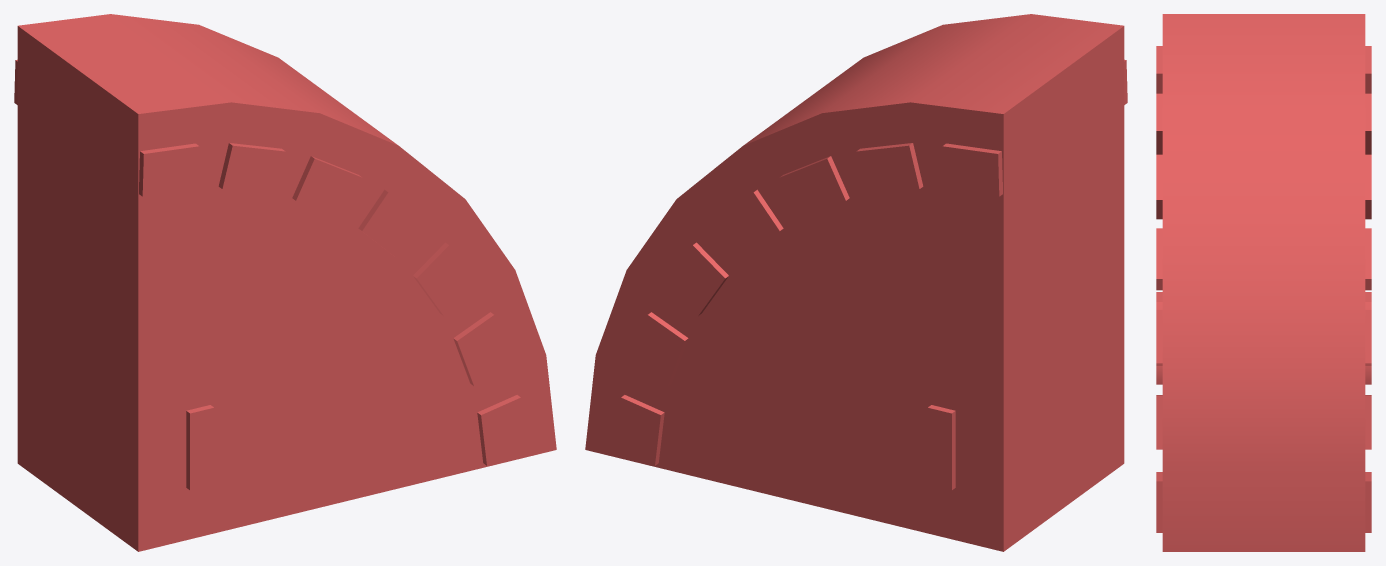
File: Curve2Color.fbx
3 renders of one model, left to right at view 1: azimuth 30°, elevation 25°; view 2: azimuth 150°, elevation 25°; view 3: azimuth 270°, elevation 25°, orthographic. The views are drawn at different scales.
Parts seen in each view (by area): view 1: polySurface485; view 2: polySurface485; view 3: polySurface485.
Part boxes in pixels (x1,y1,x2,y2): polySurface485: [14, 14, 556, 551]; polySurface485: [585, 14, 1127, 551]; polySurface485: [1156, 14, 1371, 551].
Size of the model in its own units: 1.92 by 1.92 by 1.02.
